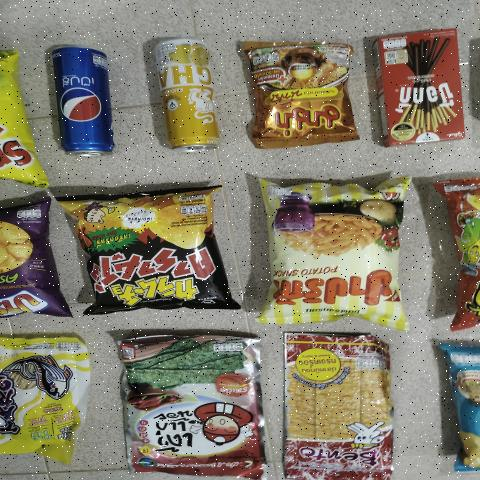bento_red: (279, 331, 408, 480)
karamujo: (74, 195, 239, 302)
mama: (257, 44, 346, 147)
paprika: (261, 181, 396, 328)
pepsi_blue: (41, 40, 115, 154)
pokki: (374, 31, 467, 138)
singha_yellow: (146, 33, 227, 153)
taokaenoi: (117, 336, 261, 475)
taro_yellow: (0, 340, 89, 451)
